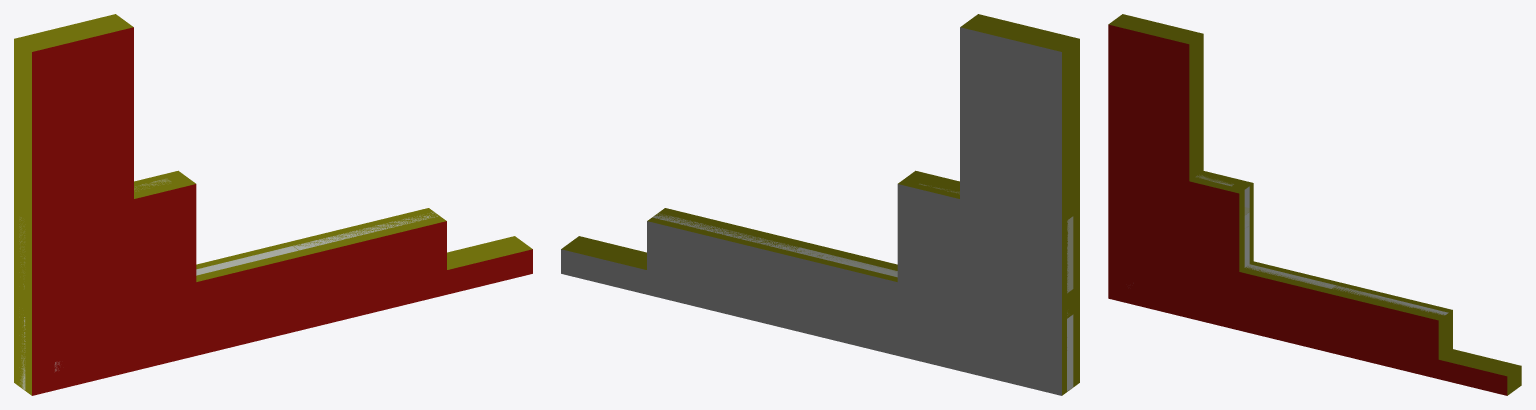
File: idf.obj
The picture shows the model from 3 angles, left to right: view 1: azimuth 30°, elevation 25°; view 2: azimuth 150°, elevation 25°; view 3: azimuth 330°, elevation 25°; orthographic projection. The views are drawn at different scales.
Size of the model in its own units: 64 by 42 by 4.
